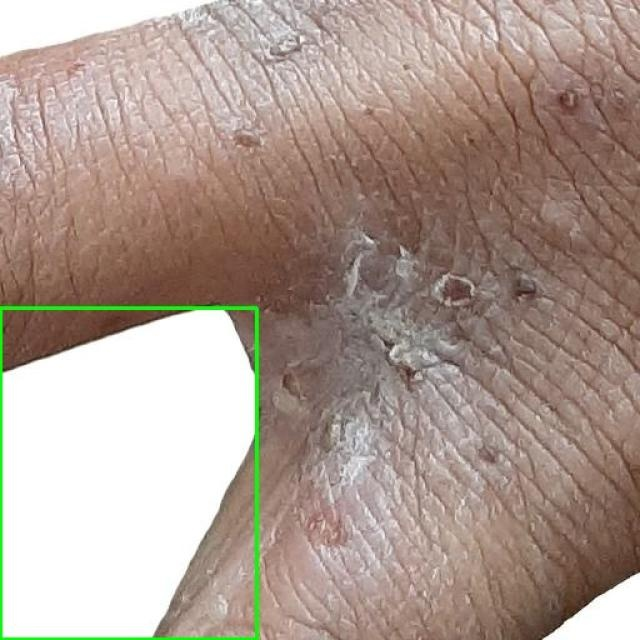Scabies: (0, 308, 256, 639)
